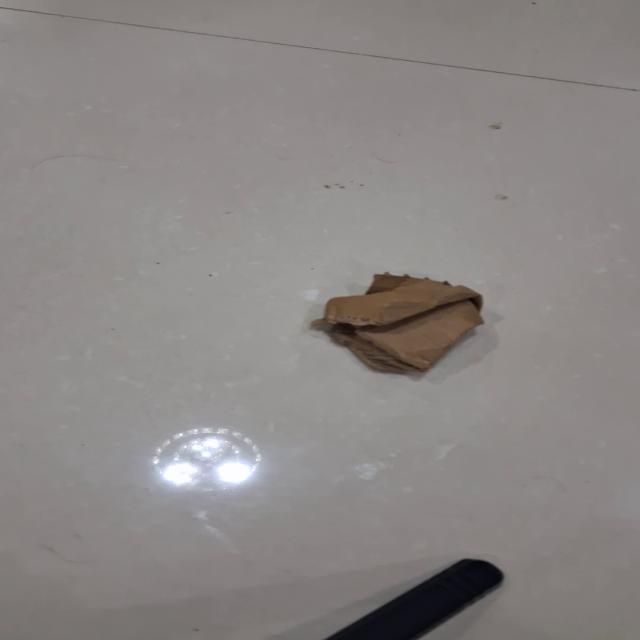paper: (310, 271, 485, 375)
